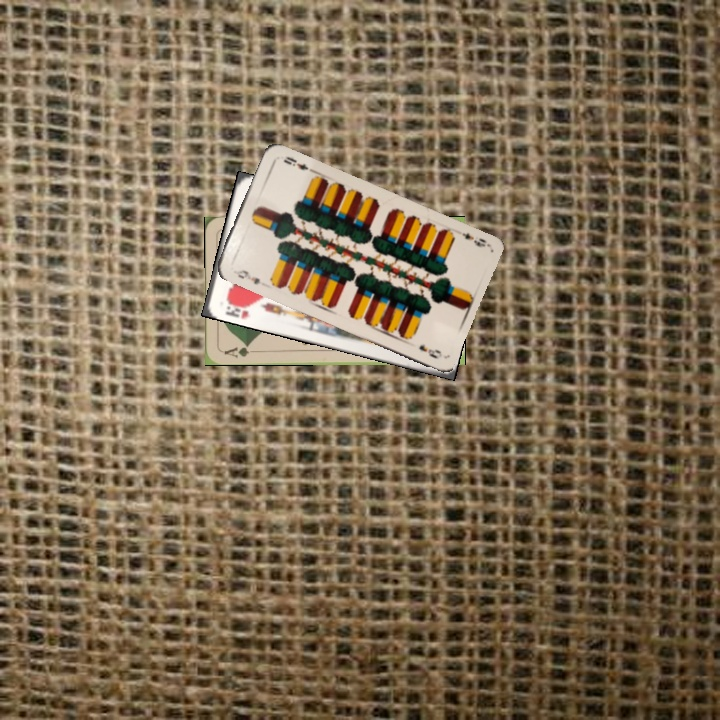E9: (229, 265, 263, 287), (458, 228, 489, 250)
GA: (220, 341, 260, 360)
HK: (221, 296, 252, 321)
